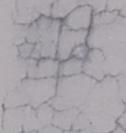retracao: (12, 1, 126, 133)
